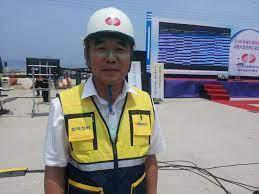helmet: (82, 7, 136, 45)
